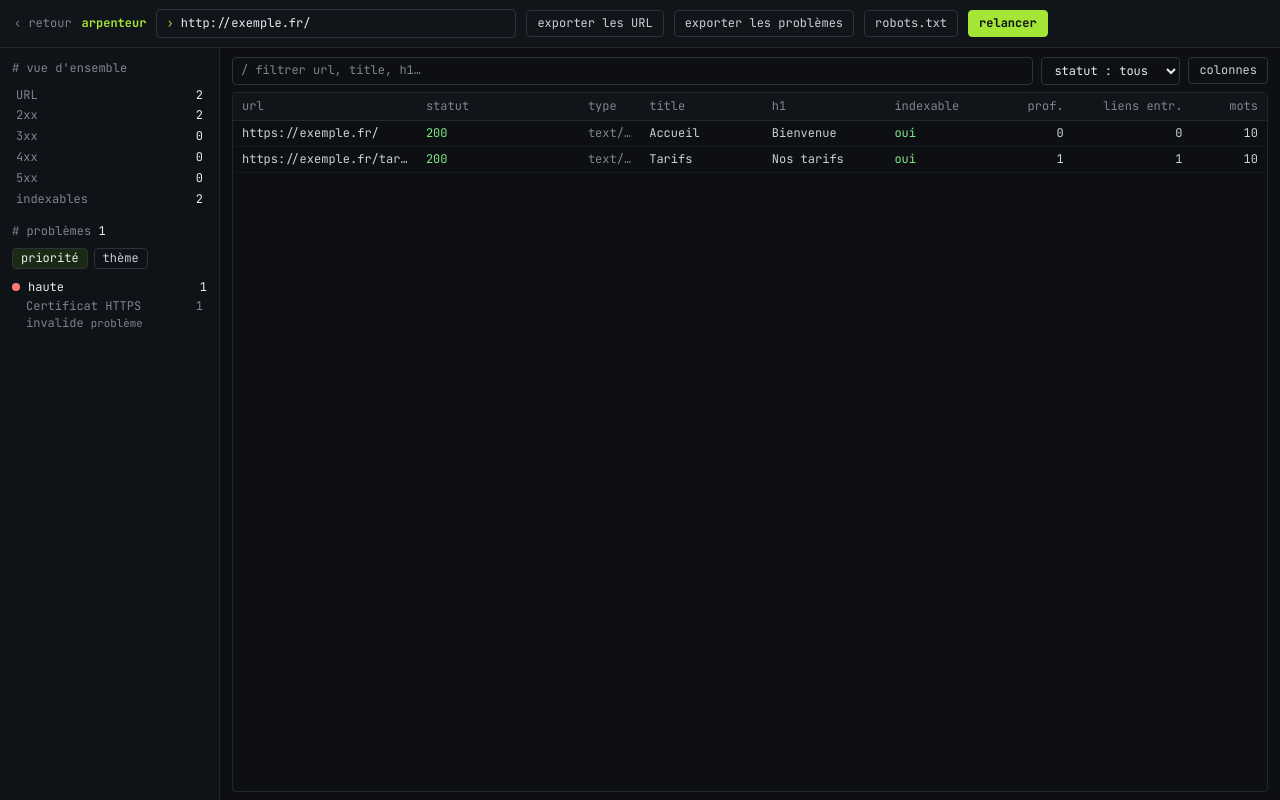
Test: un constat de site sans ligne correspondante explique le tableau vide
The image size is (1280, 800).
Expected: the text "https://exemple.fr/tarifs" is shown, [242,151,408,168]
Click the button "Certificat HTTPS invalide problème 1": (110, 315) [12,296,207,333]
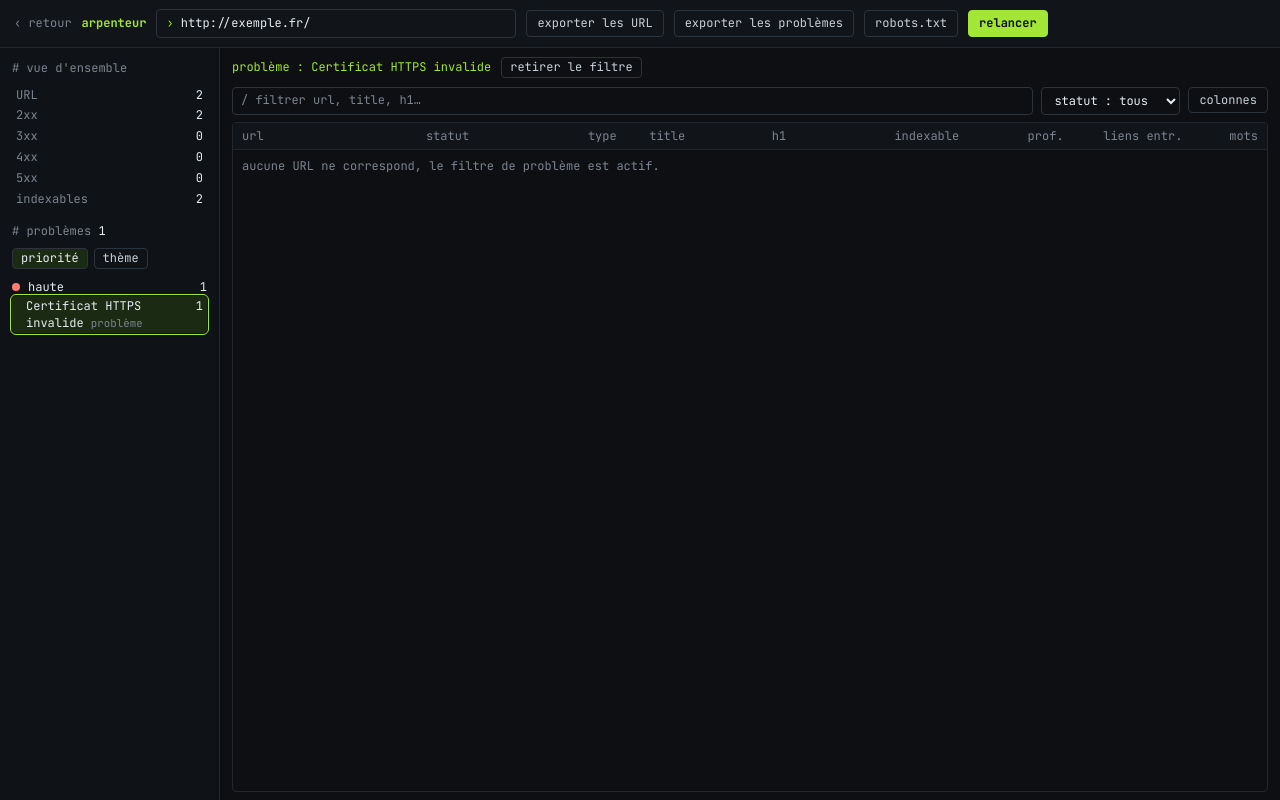
Result: the text "aucune URL ne correspond, le filtre de problème est actif." is shown at [242,158,660,174]
Result: the button "retirer le filtre" is shown at [501,57,642,78]
